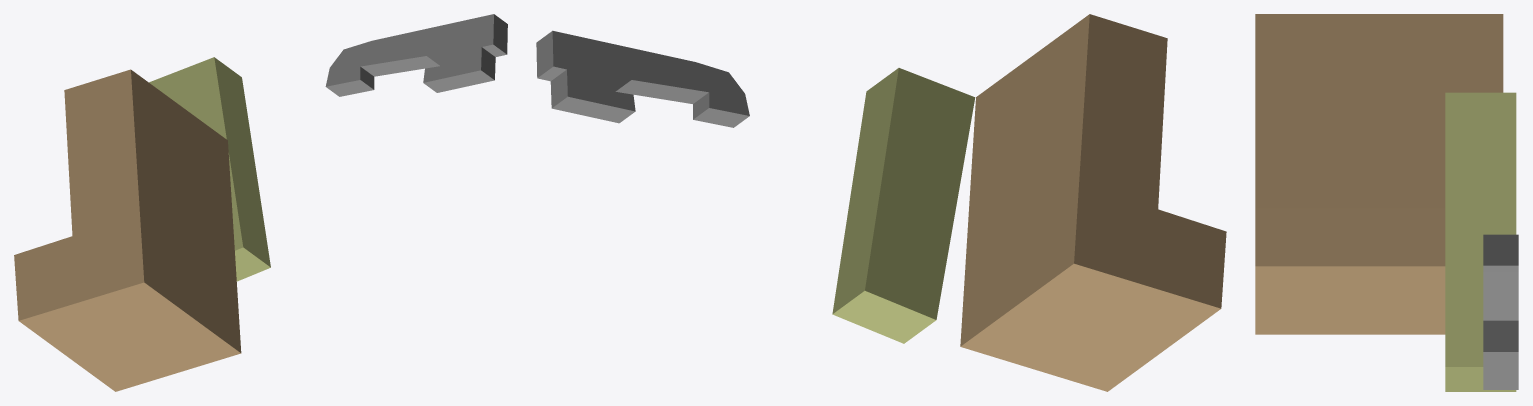
The picture shows the model from 3 angles, left to right: view 1: azimuth 30°, elevation 25°; view 2: azimuth 150°, elevation 25°; view 3: azimuth 270°, elevation 25°; orthographic projection. The views are drawn at different scales.
Visible parts, largest first — view 1: 0_1_0_0_2_2_1_1; view 2: 0_1_0_0_2_2_1_1; view 3: 0_1_0_0_2_2_1_1.
Boxes of the visible parts, x1,y1,x2,y2 form: 0_1_0_0_2_2_1_1: (14, 14, 507, 391); 0_1_0_0_2_2_1_1: (536, 14, 1226, 391); 0_1_0_0_2_2_1_1: (1255, 14, 1518, 391).
Bounding box in the file's own units: 60.72 × 26.76 × 22.3.
